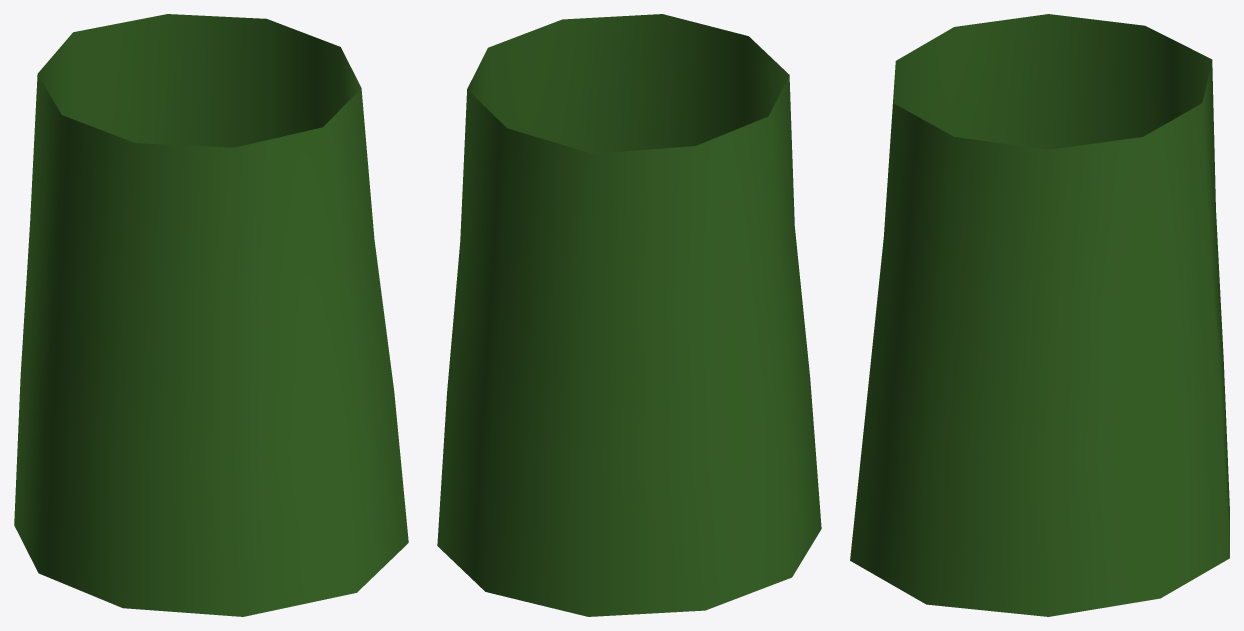
Rendered from jungle_armor_bracer.R.glb.
3 views of the same model, side by side, from view 1: azimuth 30°, elevation 25°; view 2: azimuth 150°, elevation 25°; view 3: azimuth 270°, elevation 25° (orthographic).
Parts seen in each view (by area): view 1: jungle_armor_bracer.R; view 2: jungle_armor_bracer.R; view 3: jungle_armor_bracer.R.
Boxes of the visible parts, bbox=[...] form: jungle_armor_bracer.R: bbox=[14, 14, 408, 616]; jungle_armor_bracer.R: bbox=[437, 14, 821, 616]; jungle_armor_bracer.R: bbox=[850, 14, 1229, 616].
Size of the model in its own units: 0.1208 by 0.1562 by 0.1192.
